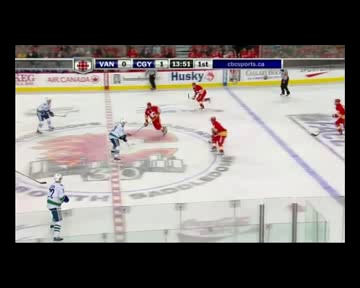normal: (43, 168, 76, 242), (140, 97, 173, 138), (33, 93, 63, 137)
